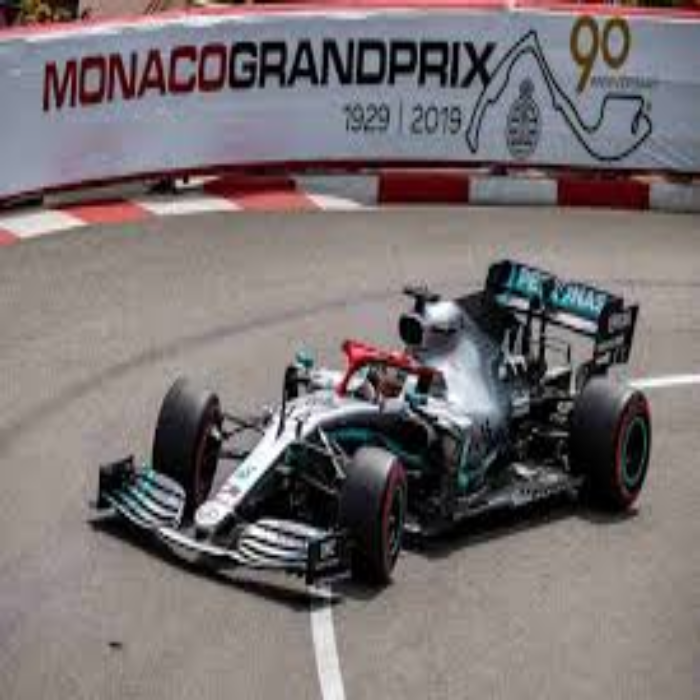f1_car: (64, 249, 668, 609)
